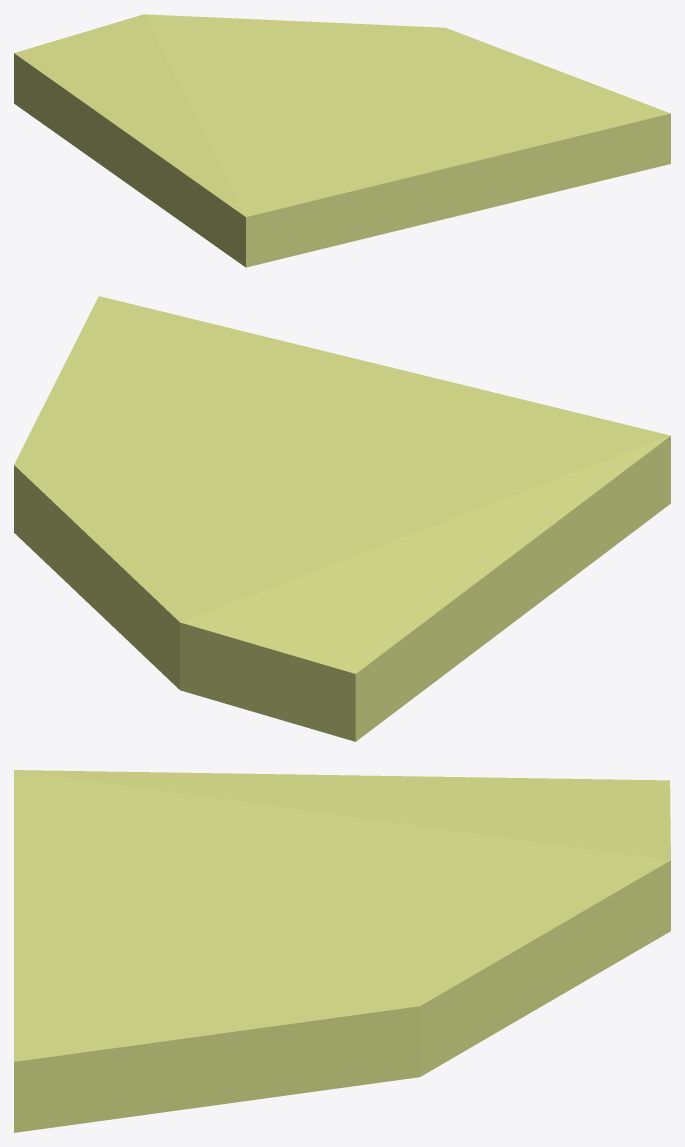
Rendered from glassground1.fbx.
3 renders of one model, top to bottom at view 1: azimuth 30°, elevation 25°; view 2: azimuth 150°, elevation 25°; view 3: azimuth 270°, elevation 25°, orthographic. The views are drawn at different scales.
Parts seen in each view (by area): view 1: pCylinder2; view 2: pCylinder2; view 3: pCylinder2.
Part boxes in pixels (x1=…): pCylinder2: x1=14, y1=14, x2=670, y2=267; pCylinder2: x1=14, y1=296, x2=670, y2=741; pCylinder2: x1=14, y1=770, x2=670, y2=1132.
Bounding box in the file's own units: 2.07 × 0.2659 × 1.97.
